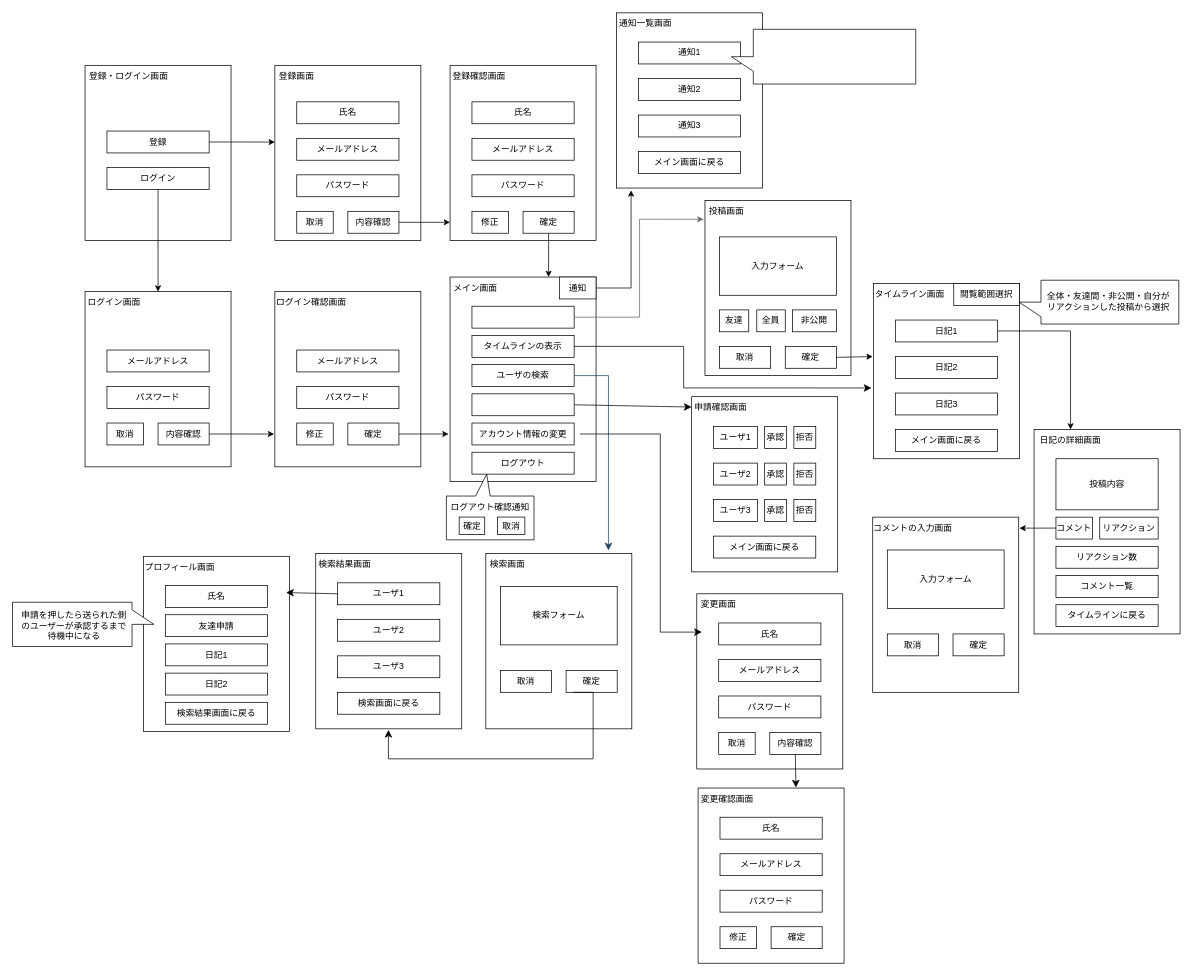
Image size: 1194x976. Some labels were removed from this diagram. The box of each missing label's shape, as (x1, y1, x2, y2) in pixels:
友達申請の承認・拒否 → プロフィール画面 自分の投稿へのリアクション・コメント → 日記の詳細画面: (731, 29, 916, 84)
友達申請の確認: (471, 393, 574, 416)
日記の投稿: (471, 306, 574, 328)
